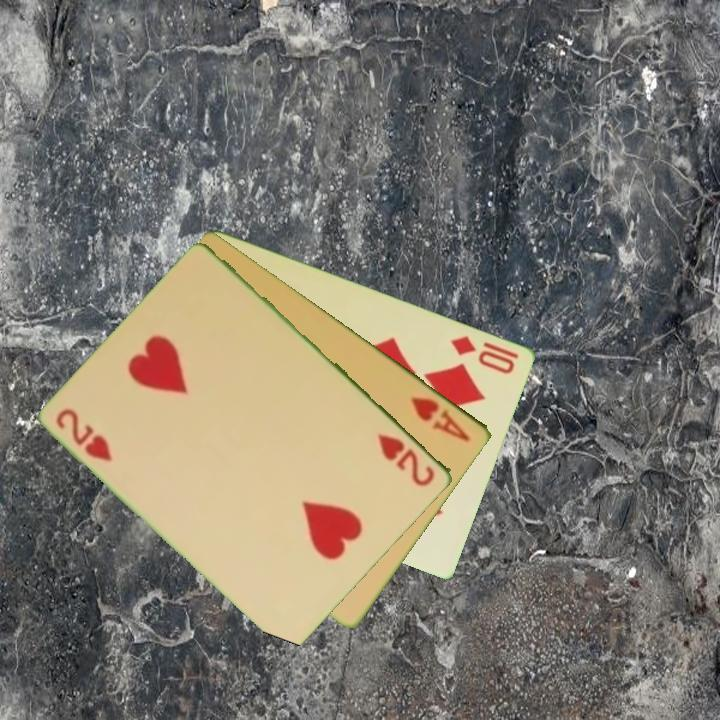10d: (448, 331, 518, 377)
2h: (374, 430, 438, 490), (52, 405, 116, 465)
Ah: (407, 393, 474, 445)
